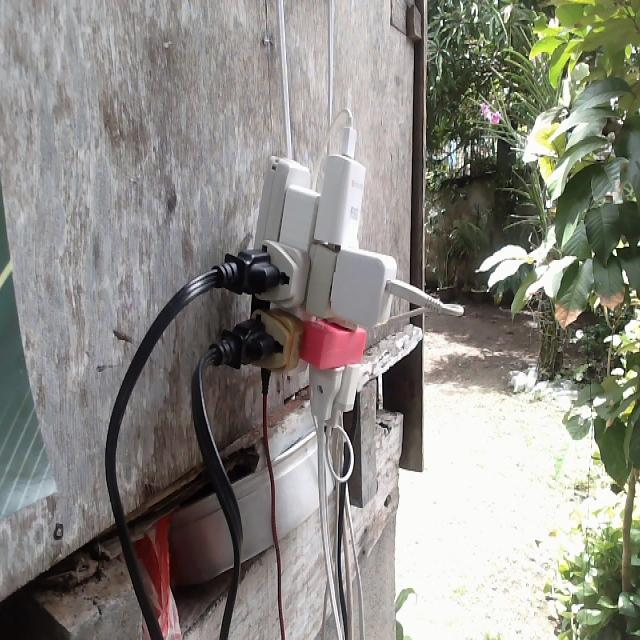-: (212, 115, 424, 440)
